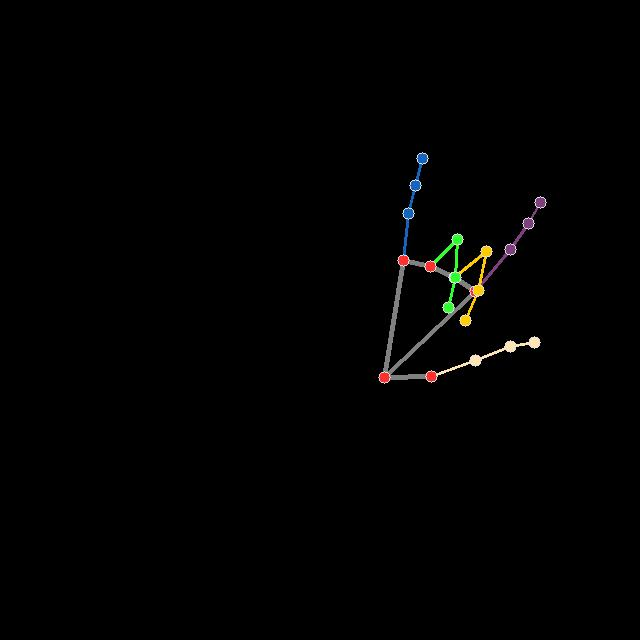spiderman: (376, 151, 549, 386)
